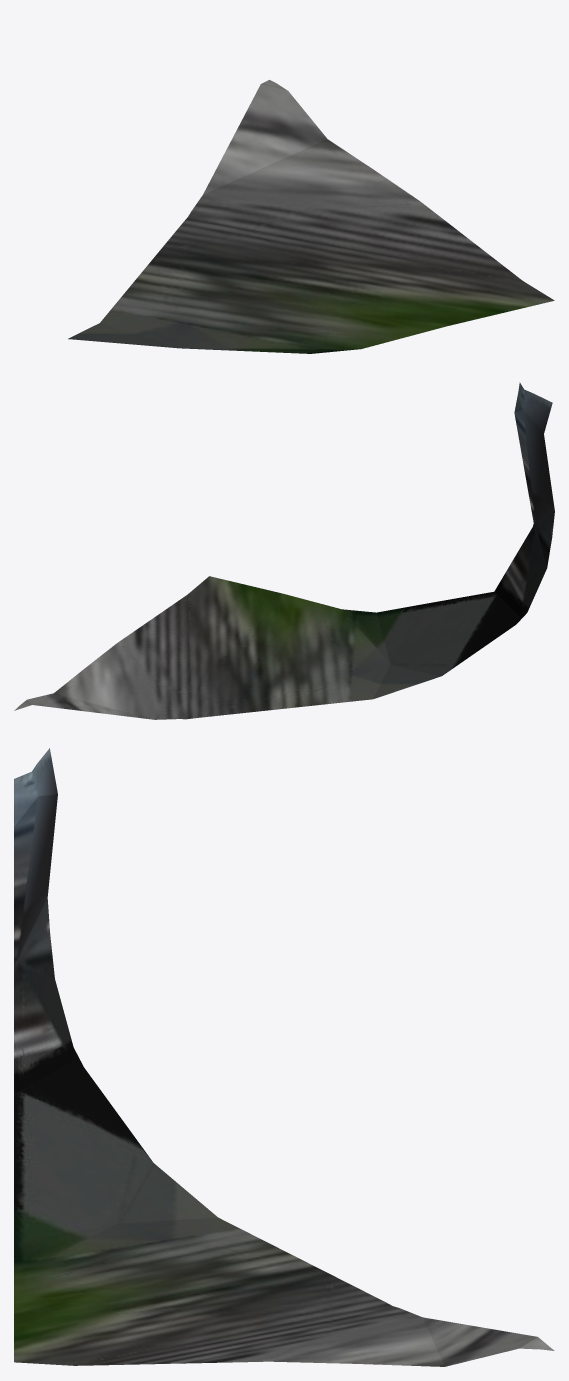
3 renders of one model, top to bottom at view 1: azimuth 30°, elevation 25°; view 2: azimuth 150°, elevation 25°; view 3: azimuth 270°, elevation 25°, orthographic. The views are drawn at different scales.
Bounding box in the file's own units: 3.07 × 2.34 × 2.9.
1 material, 1 textured.
